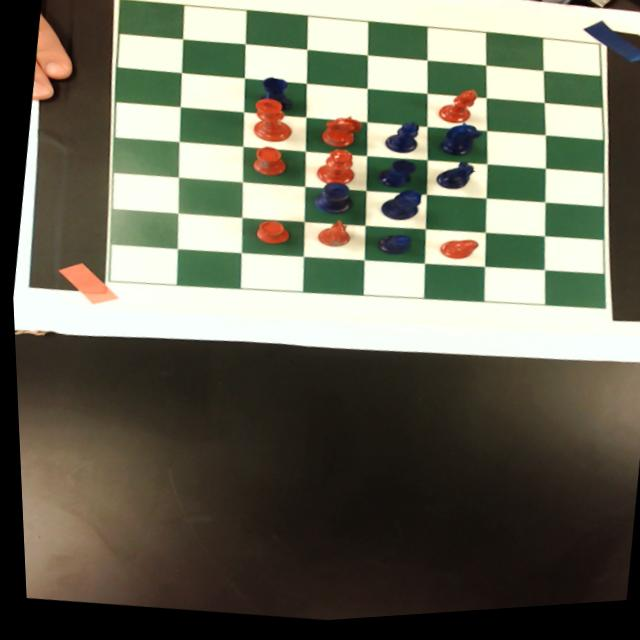B: (379, 121, 423, 162), (371, 235, 415, 264)
K: (310, 182, 355, 221)
N: (434, 124, 485, 166), (432, 162, 478, 199)
Q: (374, 189, 423, 231)
R: (372, 158, 420, 196), (258, 77, 295, 116)
b: (435, 90, 480, 131), (434, 240, 478, 269)
k: (247, 98, 297, 148)
n: (316, 115, 365, 156), (314, 221, 352, 253)
q: (313, 150, 358, 191)
r: (247, 146, 289, 183), (251, 221, 291, 252)
